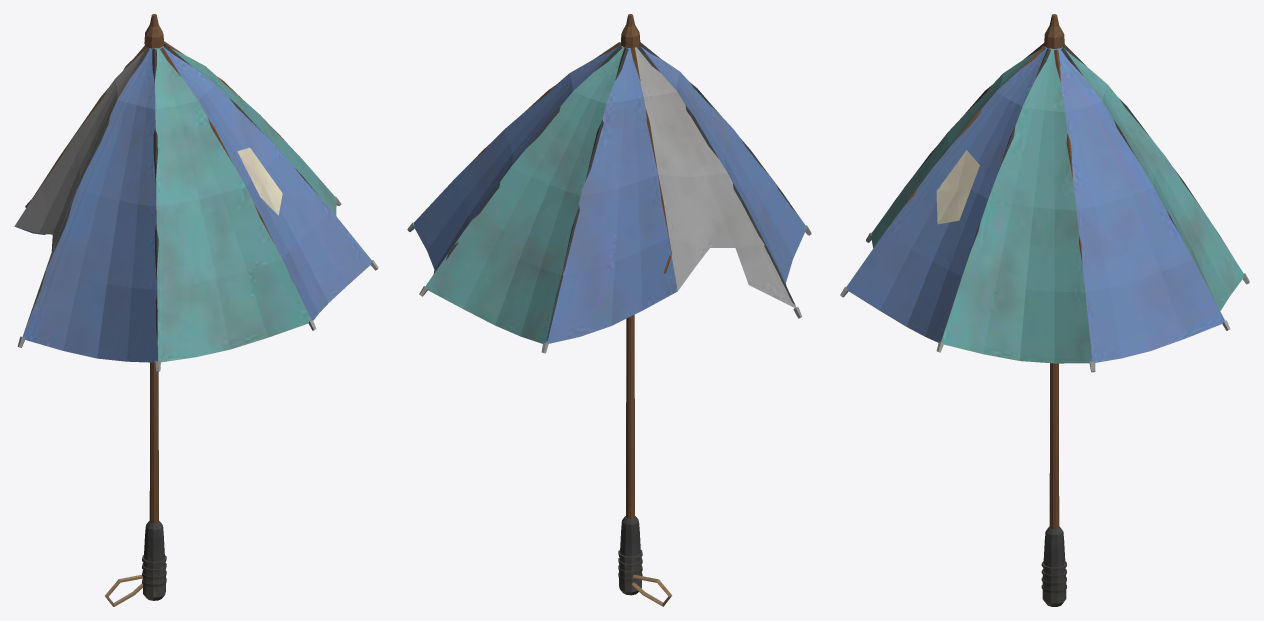
File: D12_old_umbrella_v2.glb
3 views of the same model, side by side, from view 1: azimuth 30°, elevation 25°; view 2: azimuth 150°, elevation 25°; view 3: azimuth 270°, elevation 25° (orthographic). The views are drawn at different scales.
Parts seen in each view (by area): view 1: Canopy gore; view 2: Canopy gore; view 3: Canopy gore.
Part boxes in pixels (<box>): Canopy gore: <box>14,14,378,606</box>; Canopy gore: <box>407,14,811,606</box>; Canopy gore: <box>840,14,1249,606</box>.
Size of the model in its own units: 0.5795 by 0.9 by 0.5648.
Materials: 10 (10 with a texture image).
